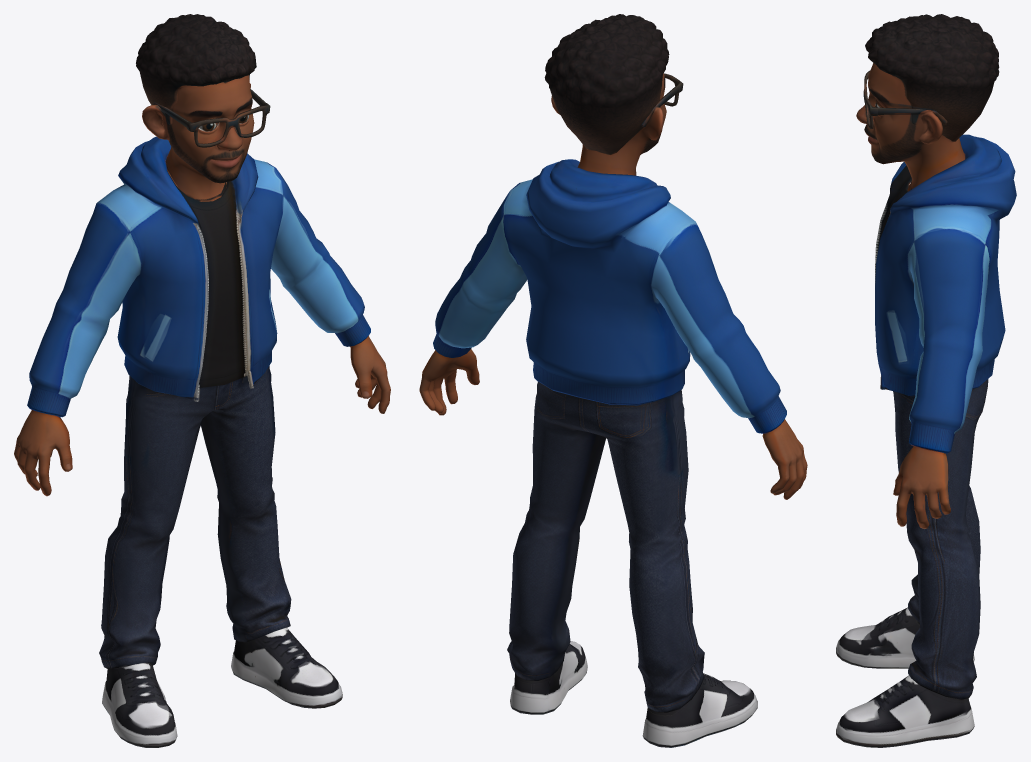
The model's file is Marcus.glb.
3 views of the same model, side by side, from view 1: azimuth 30°, elevation 25°; view 2: azimuth 150°, elevation 25°; view 3: azimuth 270°, elevation 25° (orthographic). The views are drawn at different scales.
Parts seen in each view (by area): view 1: tripo_620821d4_d56b_4e29_8ebc_fa1530fa30c7; view 2: tripo_620821d4_d56b_4e29_8ebc_fa1530fa30c7; view 3: tripo_620821d4_d56b_4e29_8ebc_fa1530fa30c7.
Part boxes in pixels (x1,y1,x2,y2): tripo_620821d4_d56b_4e29_8ebc_fa1530fa30c7: (14,14,390,747); tripo_620821d4_d56b_4e29_8ebc_fa1530fa30c7: (419,14,807,747); tripo_620821d4_d56b_4e29_8ebc_fa1530fa30c7: (836,14,1016,747).
Bounding box in the file's own units: 0.564 × 0.9995 × 0.2417.
1 material, 1 textured.
